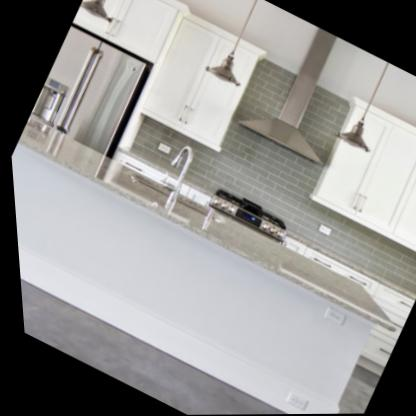Cabinet: (46, 0, 271, 154), (307, 97, 416, 256)
